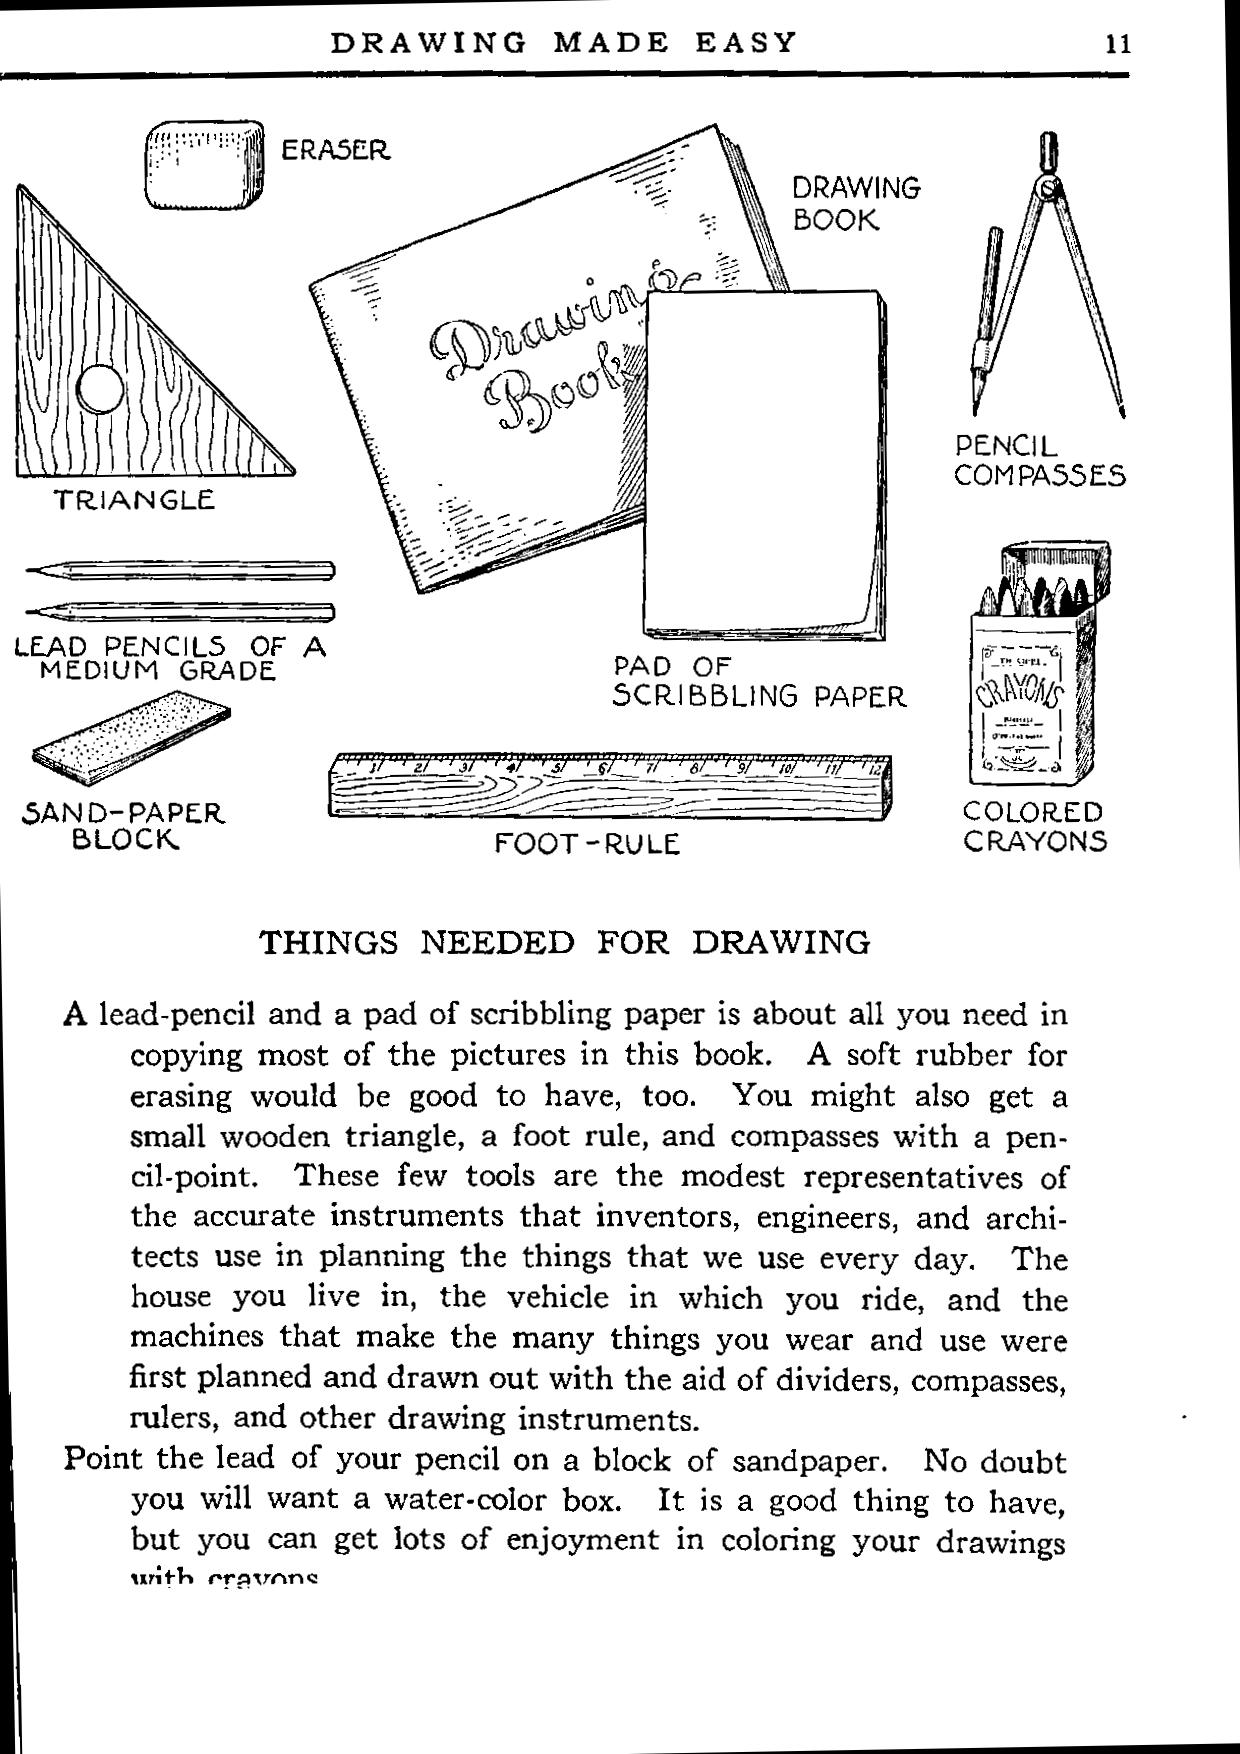chapter: (258, 927, 871, 961), (326, 25, 798, 56)
content: (59, 997, 1071, 1593)
content_pagenumber: (1095, 25, 1133, 60)
